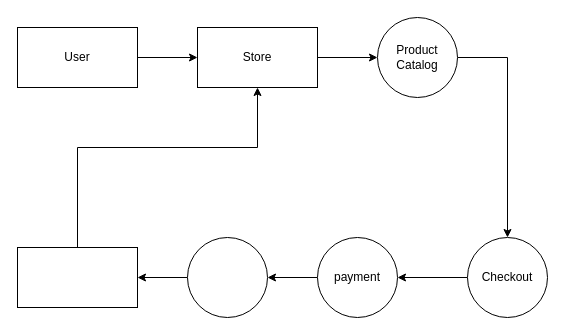
The diagram is 565 pixels wide and 335 high, and some of its shapes have lost their labels. The centre of each missing label's shape, as x and y in pixels:
"Confirm" belongs at (x=227, y=277).
"History" belongs at (x=77, y=277).
